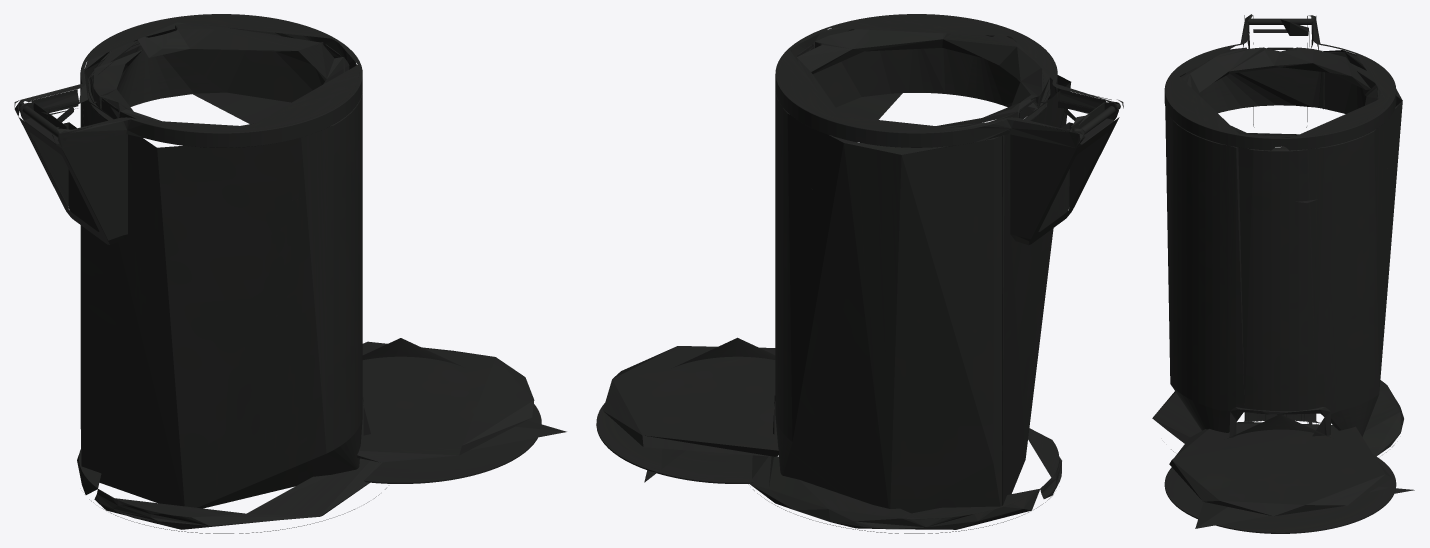
Rendered from bin_waste_a02.glb.
3 views of the same model, side by side, from view 1: azimuth 30°, elevation 25°; view 2: azimuth 150°, elevation 25°; view 3: azimuth 270°, elevation 25° (orthographic). The views are drawn at different scales.
Visible parts, largest first — view 1: geometry_0; view 2: geometry_0; view 3: geometry_0.
Boxes of the visible parts, box(x1,y1,x2,y2) form: geometry_0: box(14, 14, 566, 533); geometry_0: box(596, 14, 1123, 533); geometry_0: box(1152, 14, 1414, 533).
Size of the model in its own units: 0.42 by 0.3459 by 0.24.
1 material, 1 textured.
